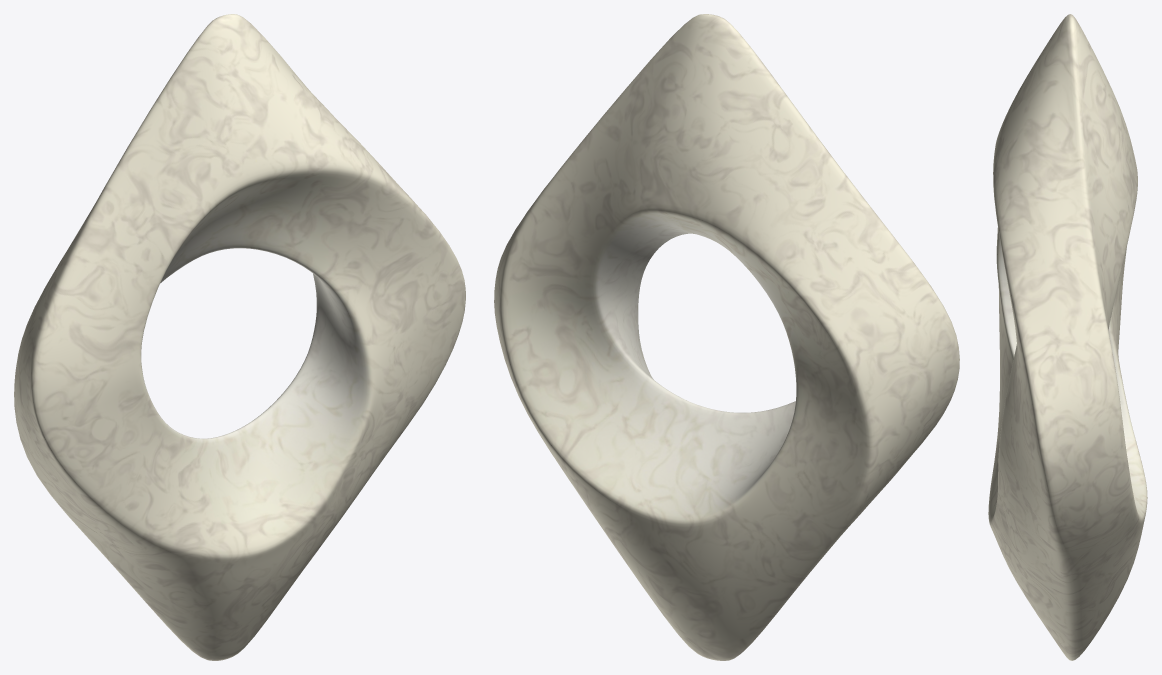
File: mobius.glb
3 views of the same model, side by side, from view 1: azimuth 30°, elevation 25°; view 2: azimuth 150°, elevation 25°; view 3: azimuth 270°, elevation 25° (orthographic).
Parts seen in each view (by area): view 1: Mobius; view 2: Mobius; view 3: Mobius.
Part boxes in pixels (<box>): Mobius: <box>14,14,465,660</box>; Mobius: <box>494,14,959,660</box>; Mobius: <box>988,14,1147,660</box>.
Size of the model in its own units: 0.7246 by 0.9993 by 0.2251.
1 material, 1 textured.
